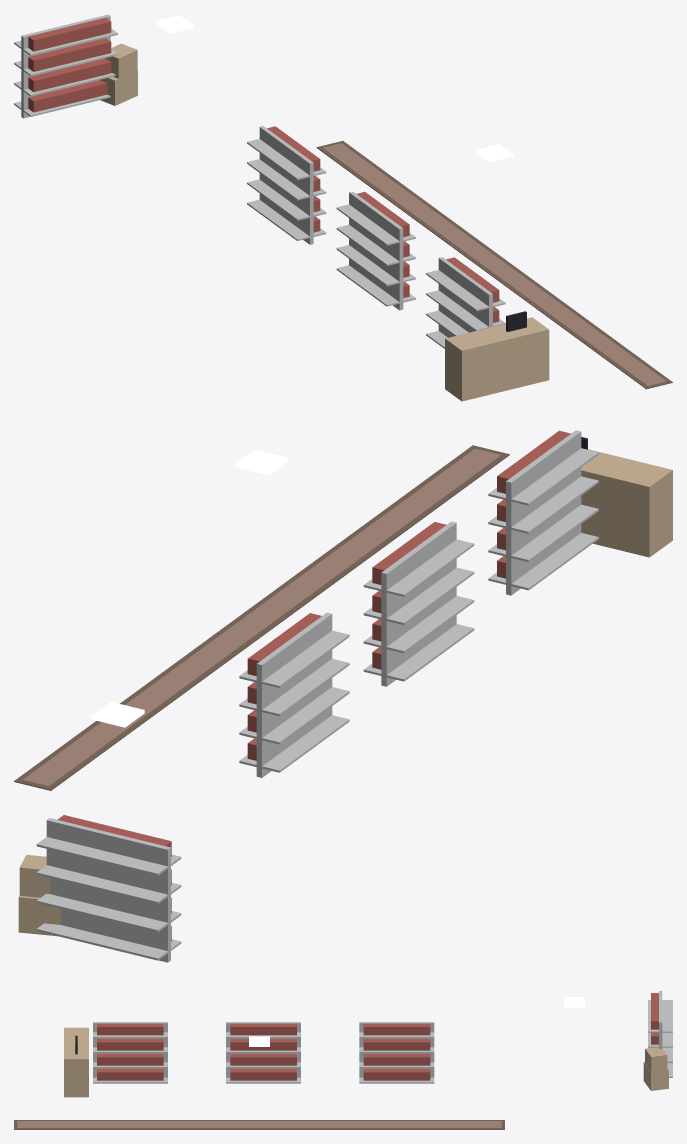
Rendered from fine-s0.glb.
The picture shows the model from 3 angles, top to bottom: view 1: azimuth 30°, elevation 25°; view 2: azimuth 150°, elevation 25°; view 3: azimuth 270°, elevation 25°; orthographic projection. The views are drawn at different scales.
Visible parts, largest first — view 1: soft-s0, shelving.000, shop-counter.000, shelf.000, shelf.001, shelf.002, cardboard-box.000; view 2: soft-s0, shelving.000, shelf.000, shelf.001, shelf.002, shop-counter.000, cardboard-box.000, ceiling-lamp.001, ceiling-lamp.000; view 3: soft-s0, shelf.000, shelf.002, shelf.001, shop-counter.000, shelving.000, cardboard-box.000, ceiling-lamp.000, ceiling-lamp.001.
Part boxes in pixels (<box>): soft-s0: <box>316,141,672,389</box>; shelving.000: <box>14,14,117,118</box>; shop-counter.000: <box>445,311,549,401</box>; shelf.000: <box>247,126,326,244</box>; shelf.001: <box>336,191,415,310</box>; shelf.002: <box>426,257,505,348</box>; cardboard-box.000: <box>100,43,137,105</box>; soft-s0: <box>14,445,509,790</box>; shelving.000: <box>36,815,181,962</box>; shelf.000: <box>239,612,349,777</box>; shelf.001: <box>363,521,474,686</box>; shelf.002: <box>488,430,598,595</box>; shop-counter.000: <box>581,437,672,557</box>; cardboard-box.000: <box>18,854,60,936</box>; ceiling-lamp.001: <box>91,702,144,727</box>; ceiling-lamp.000: <box>235,449,288,475</box>; soft-s0: <box>14,1120,504,1129</box>; shelf.000: <box>359,1022,434,1083</box>; shelf.002: <box>93,1022,167,1083</box>; shelf.001: <box>226,1022,300,1083</box>; shop-counter.000: <box>64,1027,88,1097</box>; shelving.000: <box>648,991,672,1077</box>; cardboard-box.000: <box>643,1047,668,1090</box>; ceiling-lamp.000: <box>249,1036,269,1046</box>; ceiling-lamp.001: <box>564,997,584,1007</box>.
Size of the model in its own units: 4.46 by 2.24 by 15.82.
